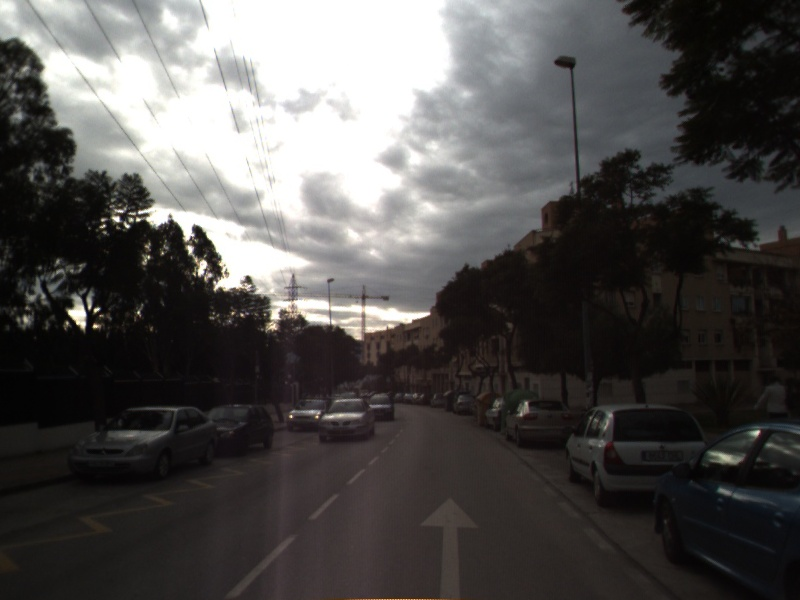STRAIGHT: (418, 496, 481, 600)
